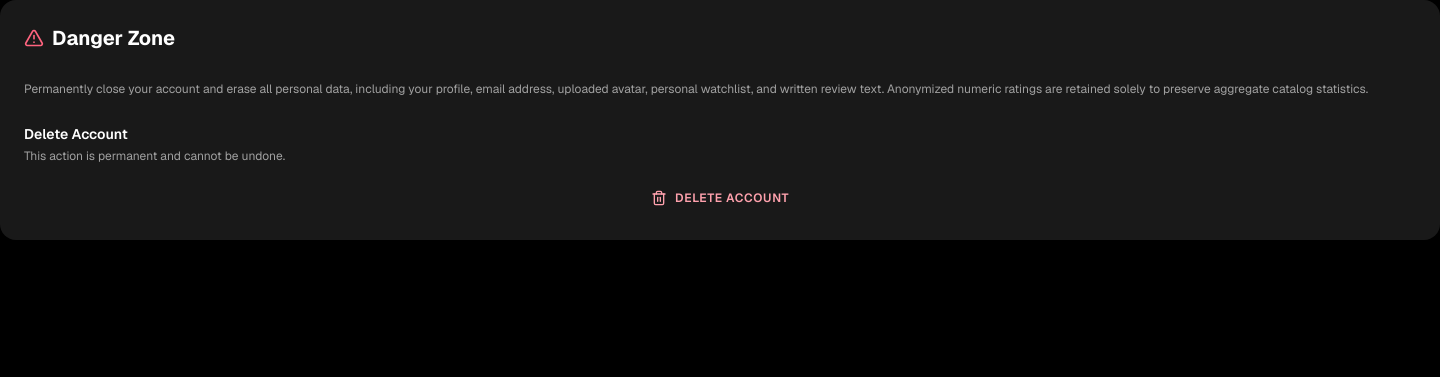
ProfileDangerZone › opens and cancels the confirmation form while clearing inputs
Expected: the field labelled "current password" is not shown
Click the button "Delete Account" at (720, 198), box top-left (24, 180), bottom-right (1416, 216)
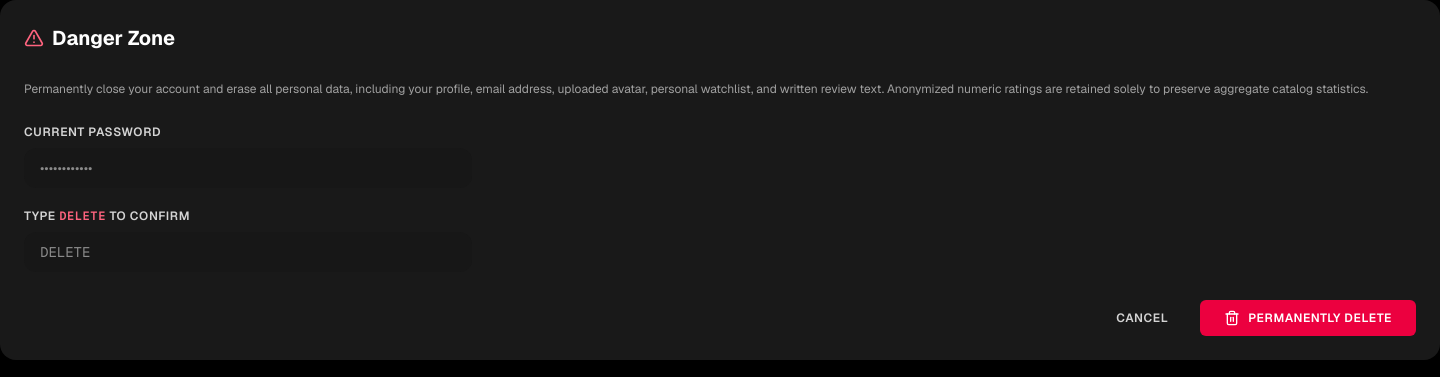
Now the button "Permanently Delete" is disabled, box top-left (1200, 300), bottom-right (1416, 336)
Type "Secret123!" into the password field labelled "Current Password" at (248, 168), box top-left (24, 148), bottom-right (472, 188)
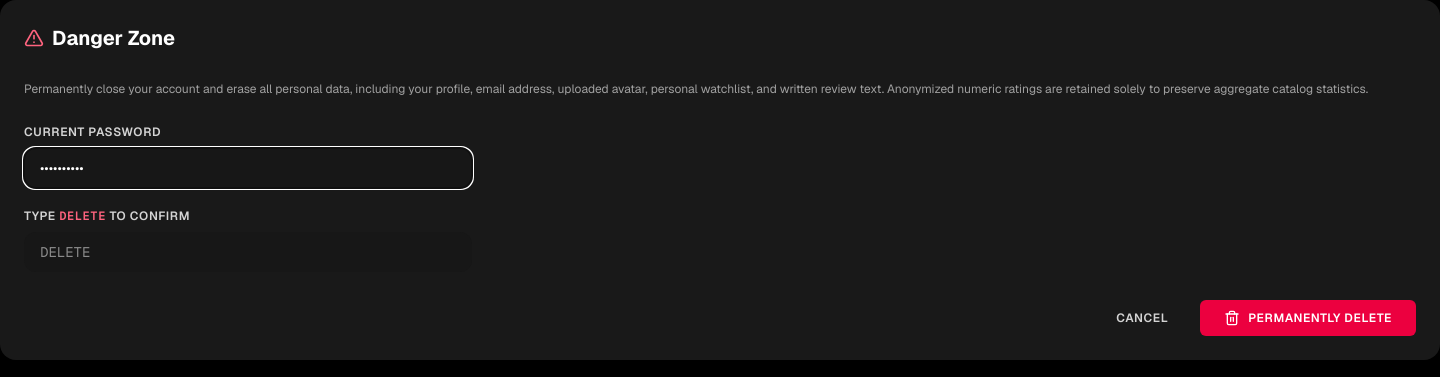
Type "DEL" into the field with placeholder "DELETE" at (248, 252), box top-left (24, 232), bottom-right (472, 272)
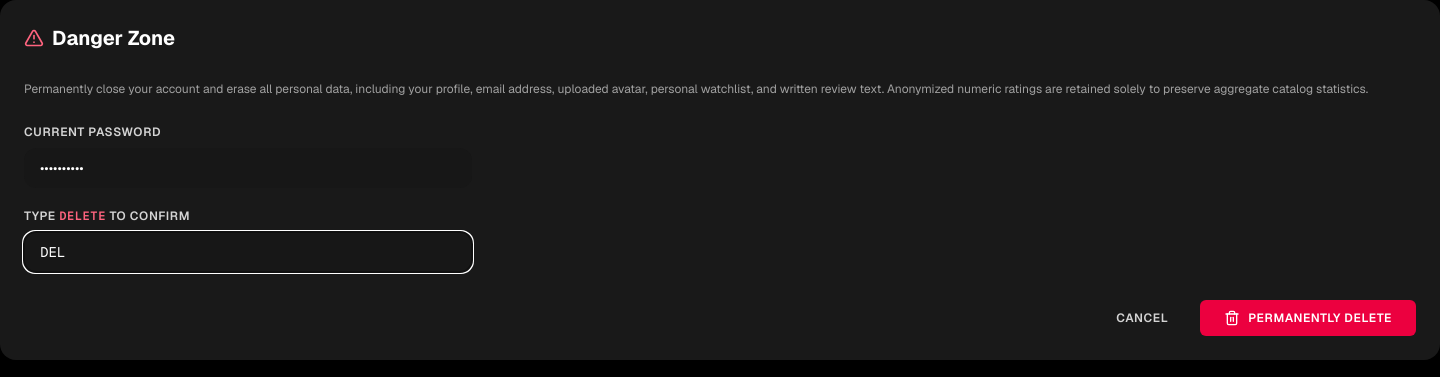
Now the button "Permanently Delete" is disabled, box top-left (1200, 300), bottom-right (1416, 336)
Click the button "Cancel" at (1142, 318), box top-left (1096, 300), bottom-right (1188, 336)
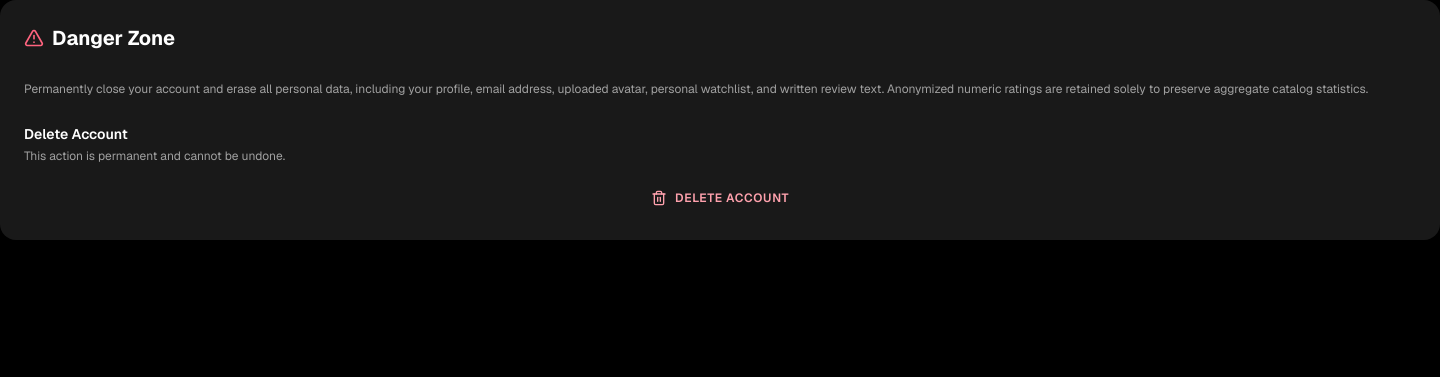
Now the label labelled "Current Password" is gone
